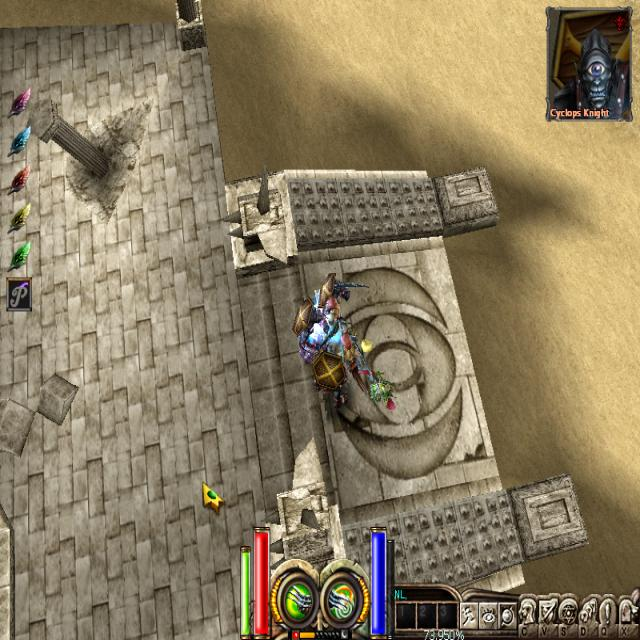monster: (365, 368, 394, 416)
